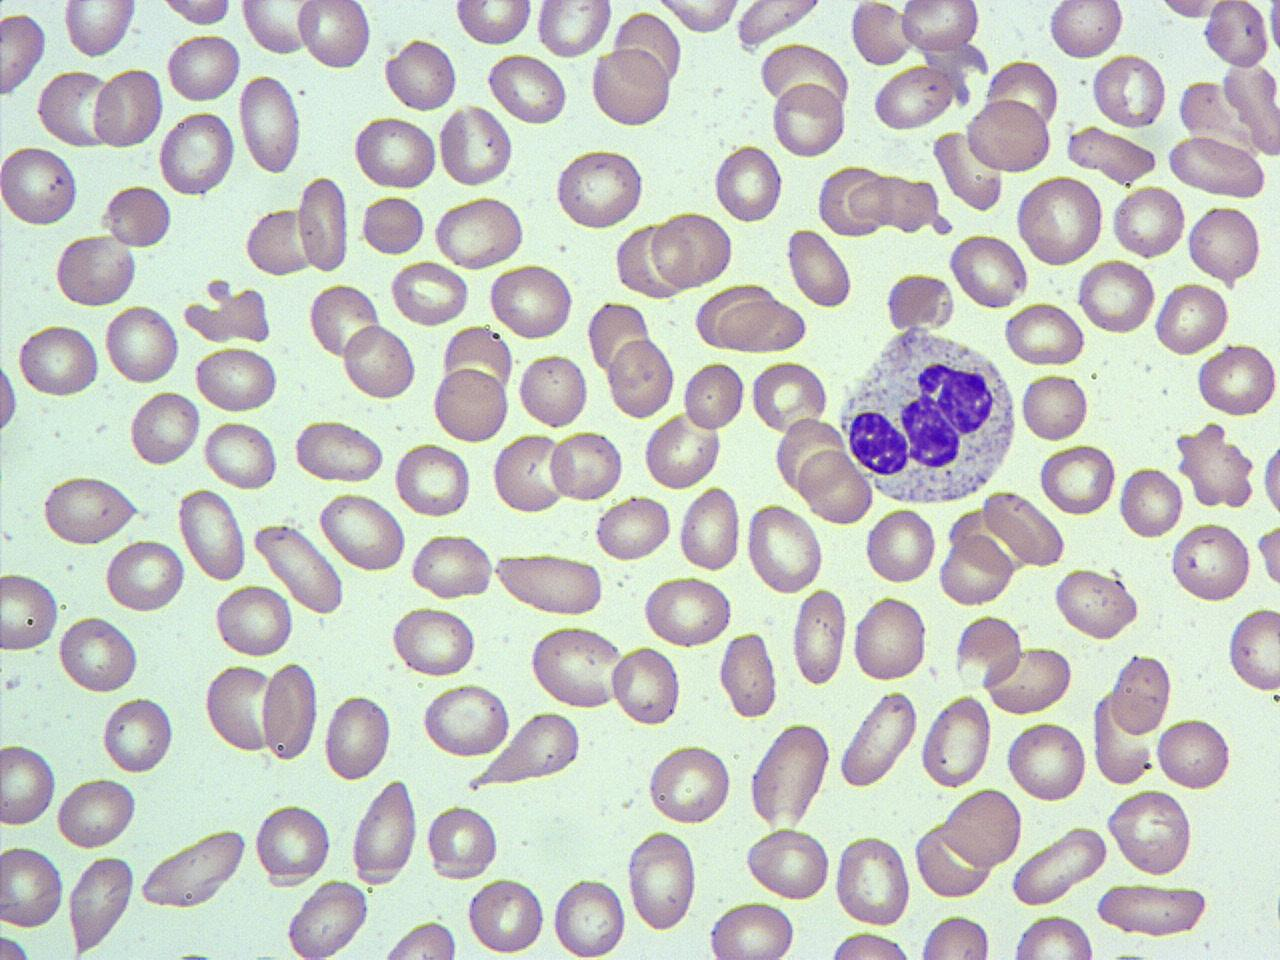RBC: (138, 826, 250, 910), (748, 722, 832, 830), (250, 518, 344, 614), (472, 711, 580, 793), (1014, 174, 1106, 268), (528, 623, 626, 711), (836, 688, 920, 790), (1009, 824, 1109, 908), (1104, 788, 1196, 878), (625, 826, 699, 934), (744, 500, 826, 597), (833, 834, 913, 930), (644, 742, 734, 827), (316, 490, 408, 573), (640, 572, 735, 652), (1168, 518, 1254, 606), (1005, 716, 1089, 806), (554, 148, 646, 230), (65, 850, 136, 956), (351, 776, 419, 885), (964, 94, 1053, 177), (758, 39, 852, 117), (850, 594, 929, 686), (495, 550, 605, 616), (40, 475, 142, 546), (432, 193, 526, 270), (285, 875, 370, 960), (158, 107, 236, 198), (419, 682, 512, 758), (920, 691, 992, 789), (913, 816, 995, 902), (487, 262, 575, 342), (203, 660, 276, 756), (0, 142, 80, 229), (650, 208, 733, 291), (589, 46, 671, 130), (177, 484, 248, 581), (981, 486, 1067, 566), (1089, 688, 1157, 789), (1053, 564, 1141, 642), (237, 73, 304, 175), (946, 229, 1030, 310), (57, 614, 142, 694), (437, 101, 514, 189), (321, 690, 393, 784), (390, 605, 480, 680), (35, 67, 117, 149), (254, 802, 332, 888), (352, 114, 438, 192), (744, 825, 832, 901), (1164, 134, 1270, 197), (931, 127, 1006, 216), (465, 874, 546, 956), (103, 302, 181, 387), (491, 431, 568, 517), (551, 874, 628, 960), (17, 321, 102, 398), (1095, 882, 1209, 939), (212, 581, 295, 659), (1185, 201, 1263, 284), (306, 278, 383, 362), (192, 343, 281, 415), (641, 410, 721, 490), (1151, 278, 1231, 358), (1153, 713, 1233, 793), (431, 363, 510, 444), (56, 774, 138, 852), (53, 232, 137, 308), (486, 51, 570, 127), (1076, 257, 1156, 336), (1038, 439, 1118, 518), (984, 644, 1074, 714), (770, 80, 848, 160), (946, 786, 1022, 868), (609, 644, 683, 728), (864, 503, 938, 587), (91, 65, 164, 150), (394, 441, 472, 520), (1090, 52, 1168, 131), (1109, 182, 1187, 261), (749, 358, 829, 435), (100, 694, 176, 775), (342, 321, 418, 402), (712, 141, 784, 226), (409, 530, 495, 601), (546, 428, 626, 504), (291, 420, 386, 484), (1195, 342, 1275, 418), (790, 587, 850, 688), (261, 660, 319, 764), (106, 538, 185, 614), (128, 388, 202, 469), (426, 802, 500, 882), (0, 840, 65, 931), (517, 349, 590, 430), (676, 483, 742, 572), (383, 37, 459, 114), (164, 30, 242, 105), (798, 448, 874, 524), (784, 226, 854, 308), (608, 336, 676, 420), (718, 628, 780, 720), (950, 612, 1024, 689), (294, 0, 373, 72), (704, 900, 798, 960), (986, 56, 1062, 130), (815, 164, 892, 237), (593, 493, 672, 564), (1109, 650, 1173, 737), (241, 204, 316, 278), (201, 418, 278, 490), (874, 65, 954, 134), (844, 170, 934, 231), (1002, 300, 1085, 366), (938, 535, 1013, 608), (295, 176, 352, 272), (717, 295, 807, 355), (0, 568, 61, 656), (388, 260, 469, 326), (0, 740, 59, 830), (1117, 463, 1185, 541), (1020, 370, 1090, 444), (682, 358, 748, 434), (102, 182, 174, 251), (1046, 0, 1126, 62), (1225, 605, 1279, 695), (897, 0, 983, 56), (732, 0, 834, 47), (1203, 0, 1271, 70), (534, 0, 613, 60), (237, 0, 318, 58), (848, 1, 914, 68), (884, 270, 956, 331), (1007, 912, 1099, 959), (61, 1, 136, 58), (0, 9, 48, 98), (360, 194, 427, 256), (452, 0, 534, 48), (915, 913, 992, 959), (378, 920, 461, 960), (650, 0, 744, 35), (822, 930, 920, 960), (159, 0, 237, 28), (1254, 520, 1280, 592), (1259, 433, 1279, 526), (0, 351, 19, 447)
WBC: (834, 321, 1024, 507)
